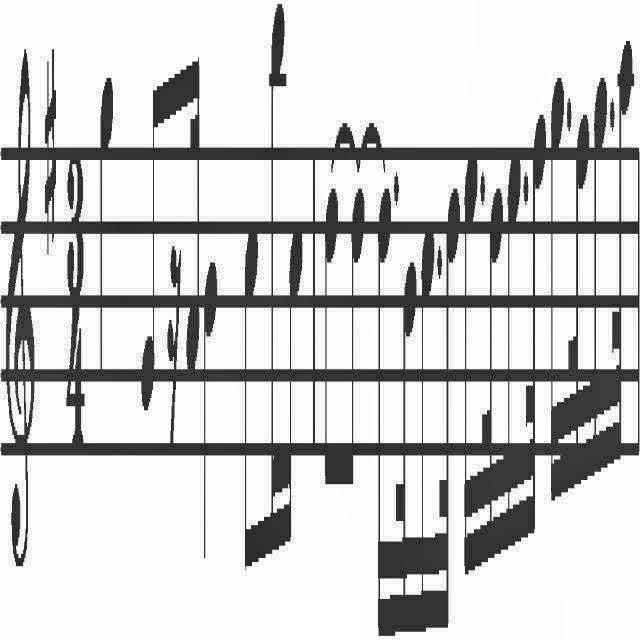Bass-clef: (5, 41, 35, 581)
Diez: (44, 48, 56, 260)
Eighth-note: (140, 69, 160, 421), (243, 223, 261, 577), (350, 179, 366, 505), (326, 181, 338, 501)
Quarter-note: (98, 74, 114, 386), (202, 258, 218, 566)
Sixteenth-note: (266, 3, 286, 584), (588, 74, 608, 548), (502, 151, 522, 594), (547, 70, 565, 518), (376, 176, 392, 640), (462, 147, 478, 605), (418, 217, 434, 638), (286, 212, 304, 580), (186, 51, 202, 386)
